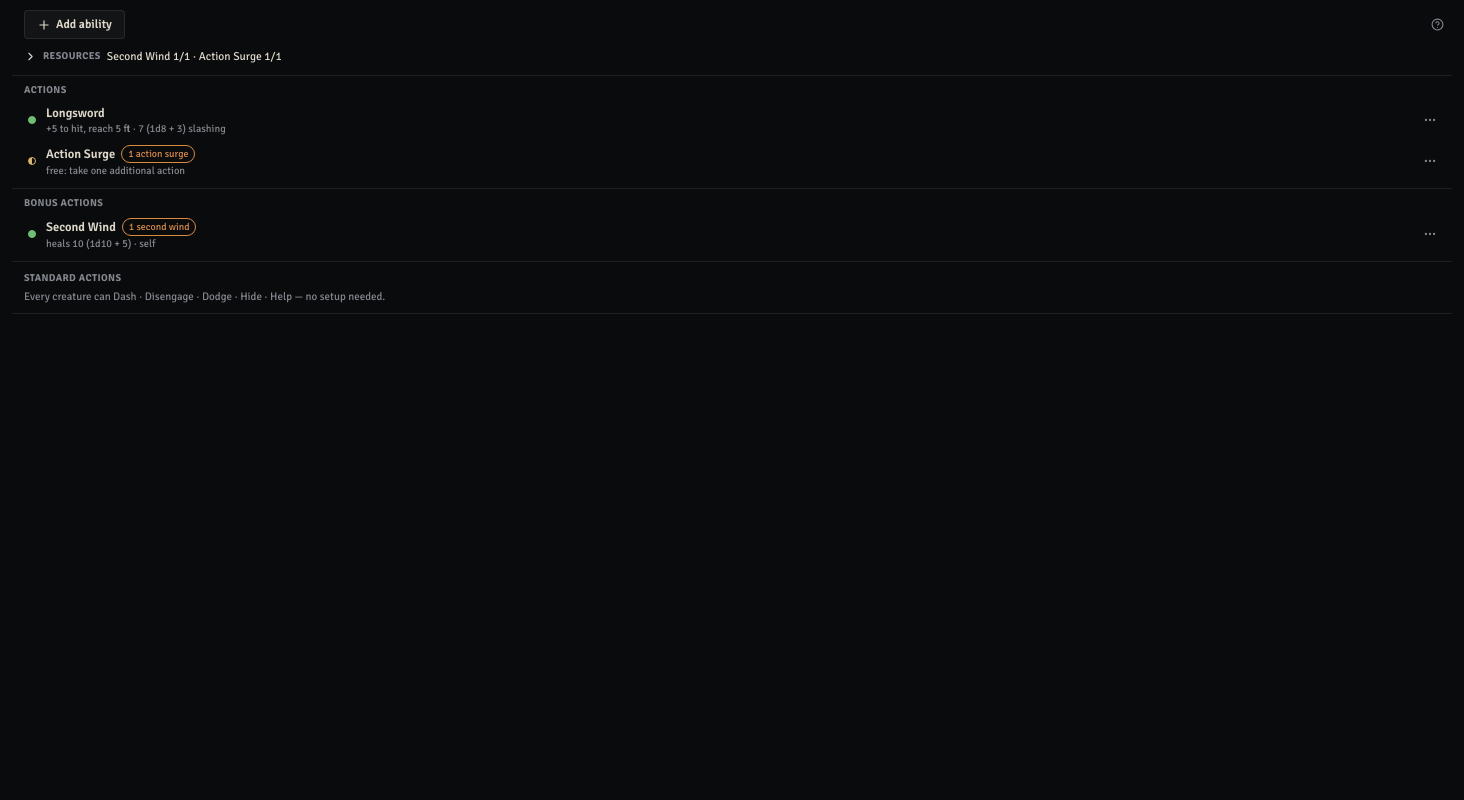
Scenario: on death and lair actions, from scratch › makes a death burst around the creature: a sphere or a cube, no cost, no lingering area
Click the button "Add ability" at (74, 24), box [24,10,125,39]
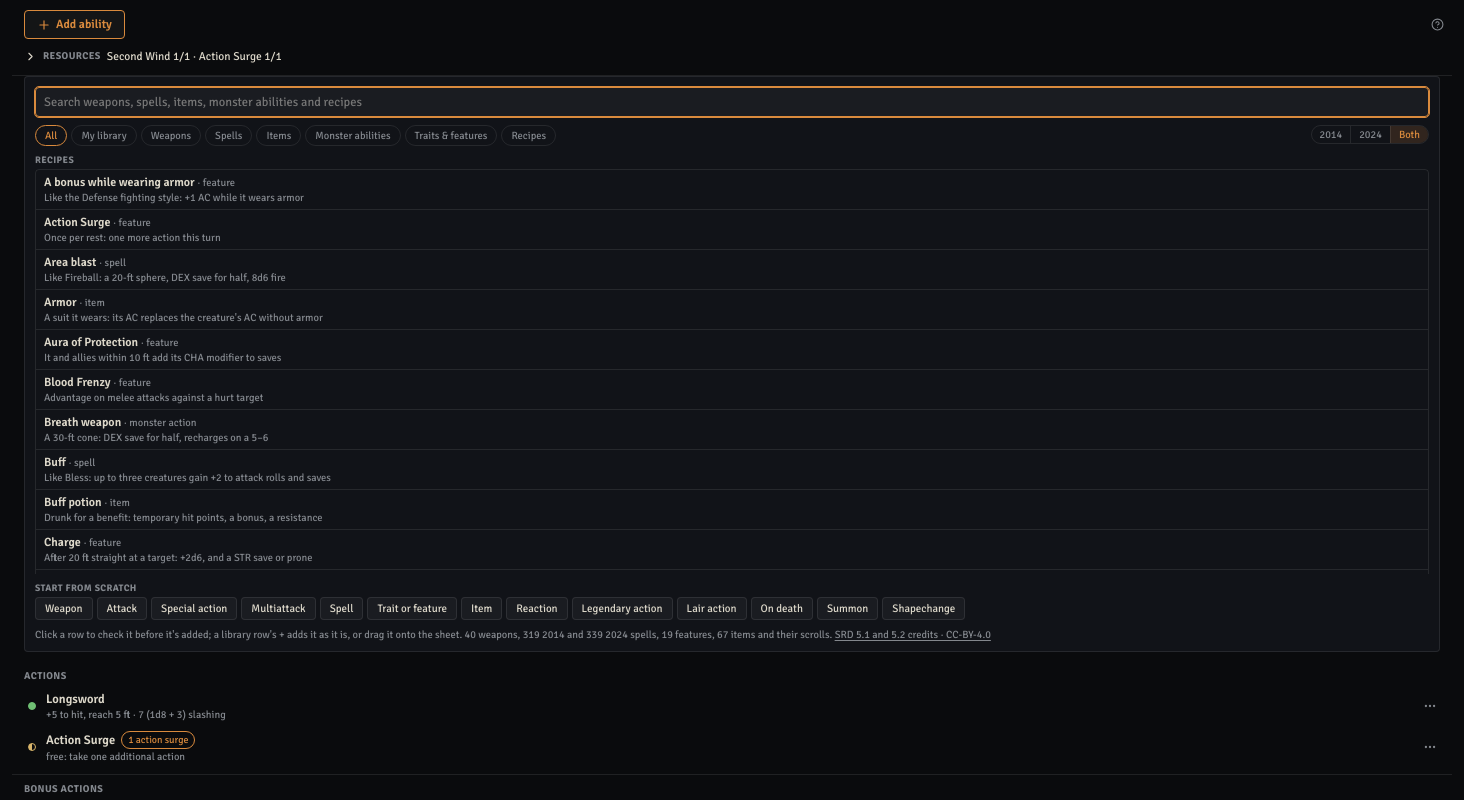
Click the button "On death" at (782, 608), box [751,597,813,620]
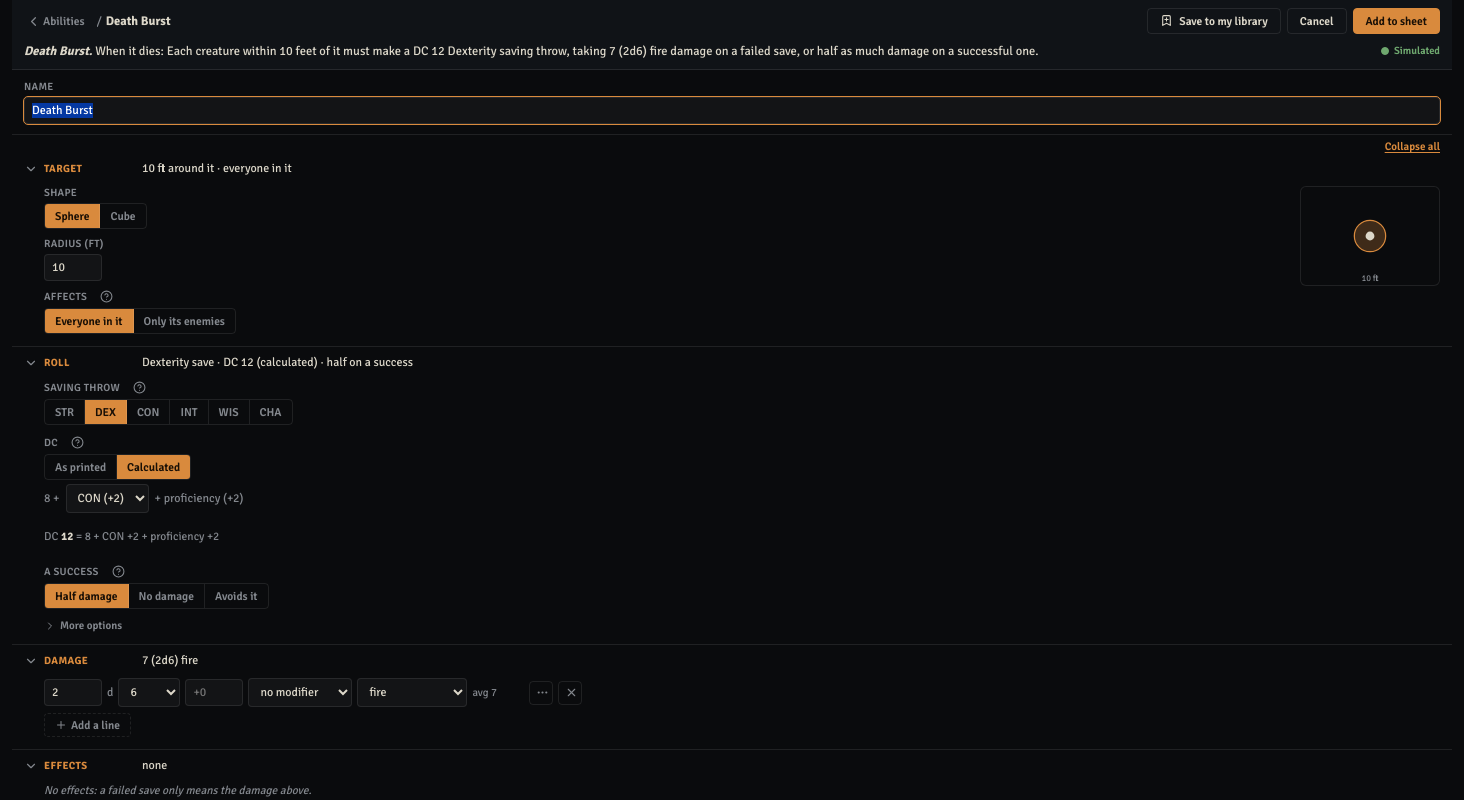
Check: the radio buttons read "Sphere", "Cube", in this order
Click the radio button labelled "Cube" at (123, 216), box [100,204,146,228]
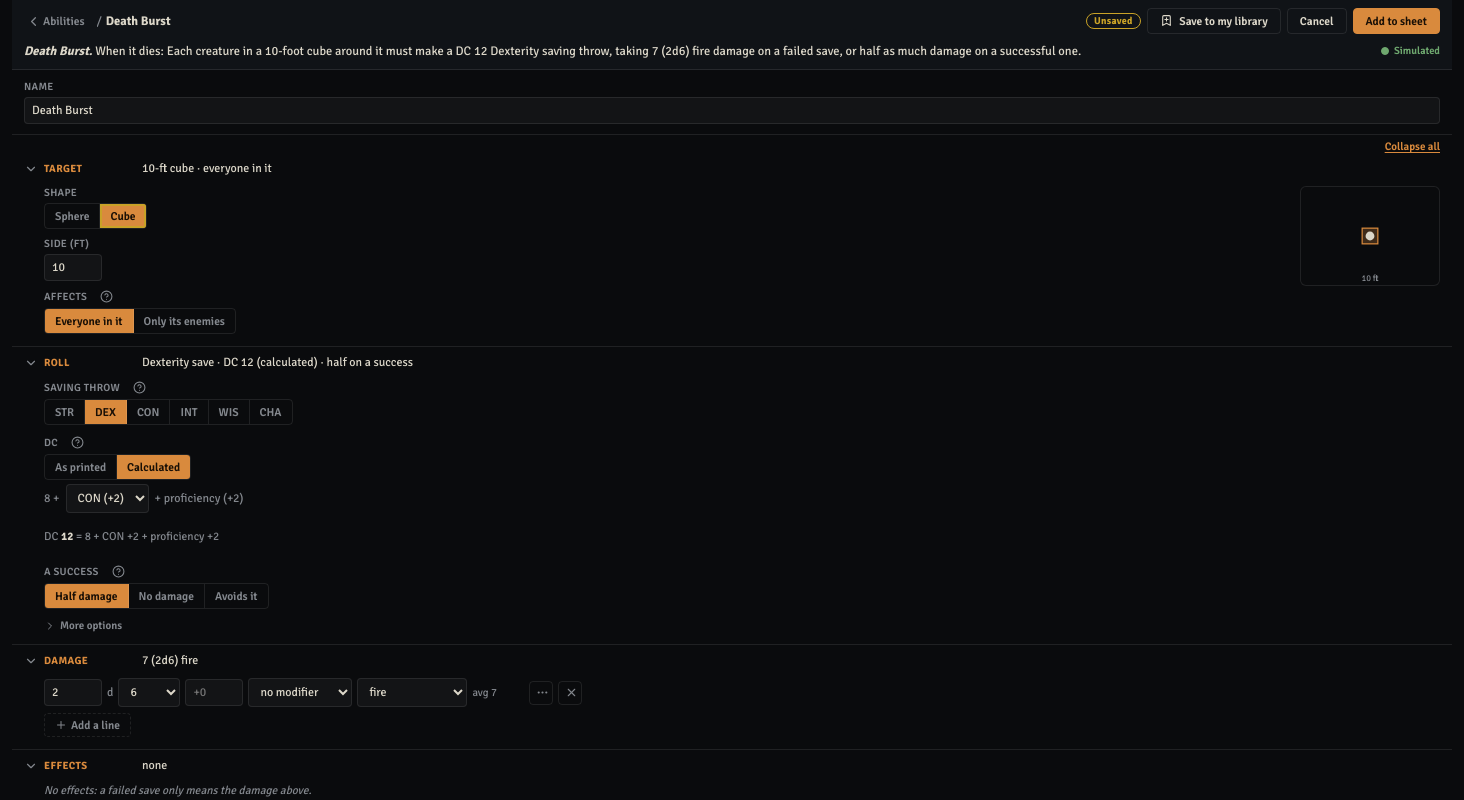
Click the button "Add to sheet" at (1396, 21), box [1352,8,1440,34]
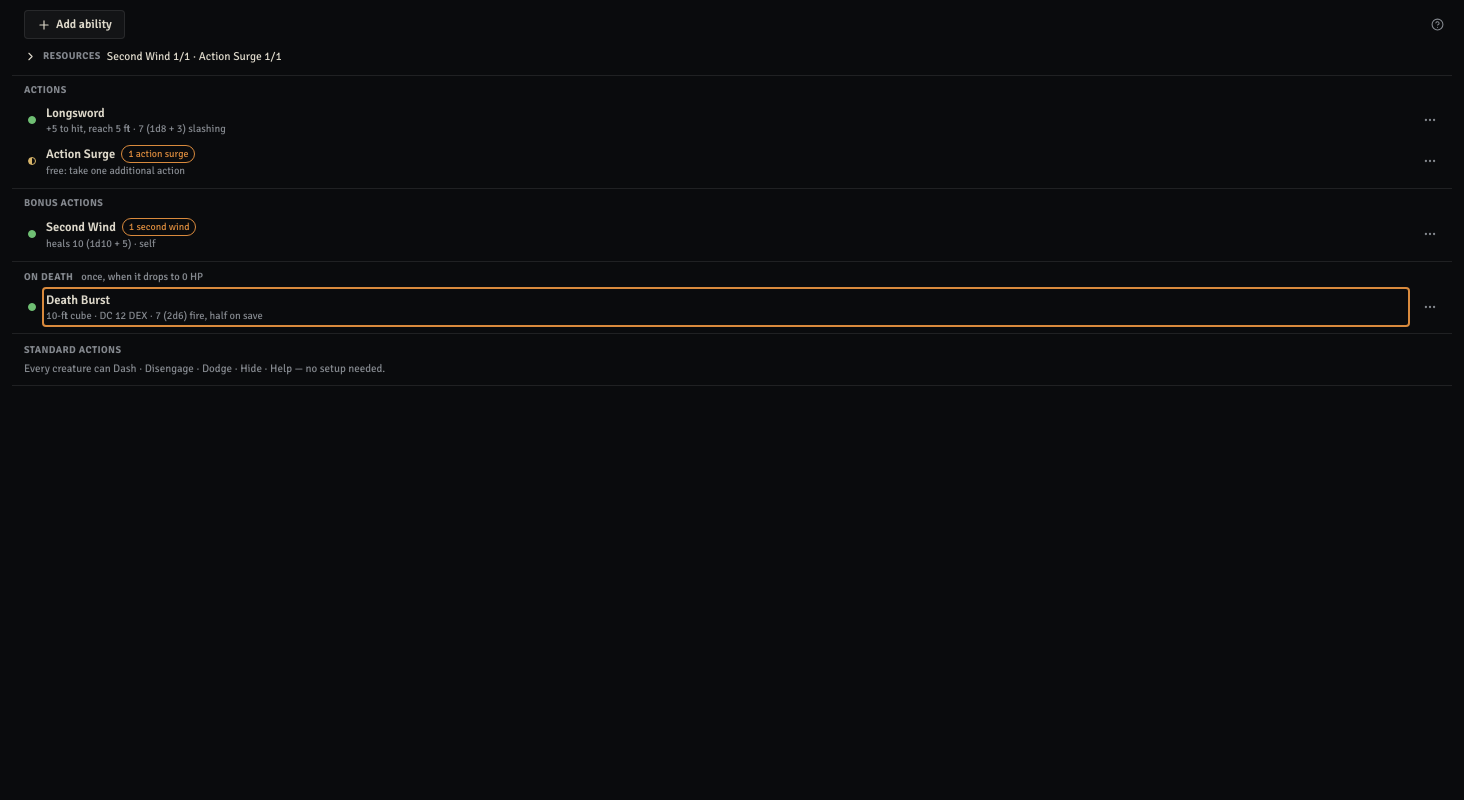
Check: the button with aria-label "Edit Death Burst" is shown, box [42,287,1410,327]
